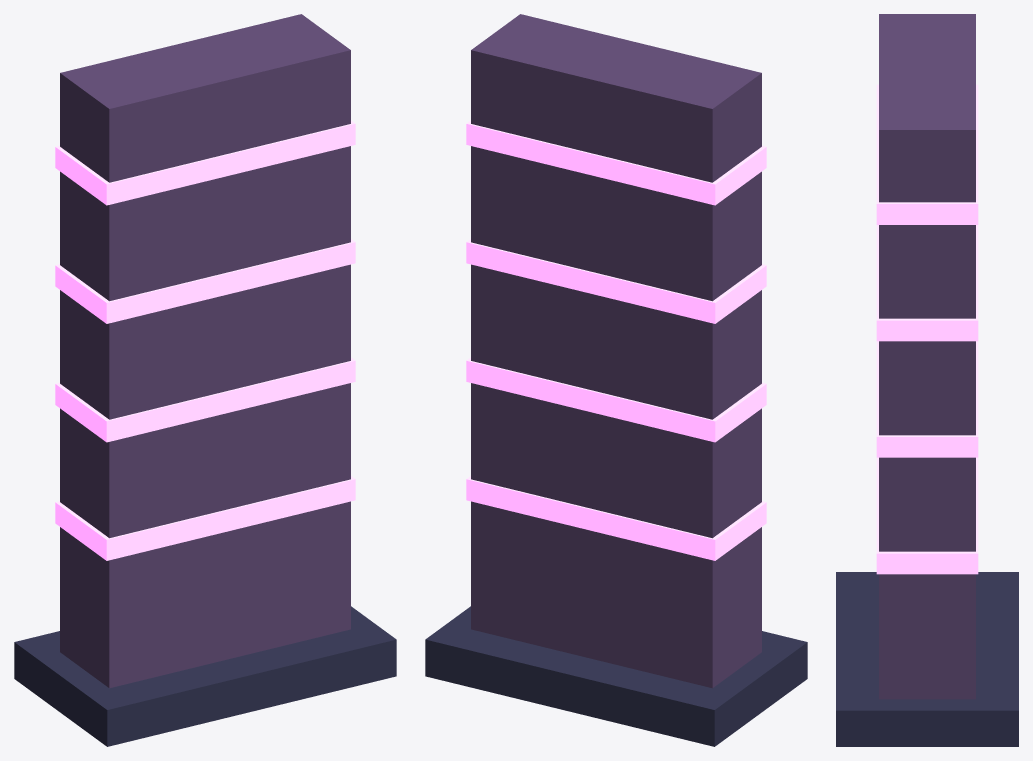
Rendered from neon-pylon.glb.
3 renders of one model, left to right at view 1: azimuth 30°, elevation 25°; view 2: azimuth 150°, elevation 25°; view 3: azimuth 270°, elevation 25°, orthographic.
Parts seen in each view (by area): view 1: neon-pylon; view 2: neon-pylon; view 3: neon-pylon.
Part boxes in pixels (<box>): neon-pylon: <box>14,14,396,746</box>; neon-pylon: <box>425,14,807,746</box>; neon-pylon: <box>836,14,1018,746</box>.
Bounding box in the file's own units: 2.3 × 4.68 × 1.28.
